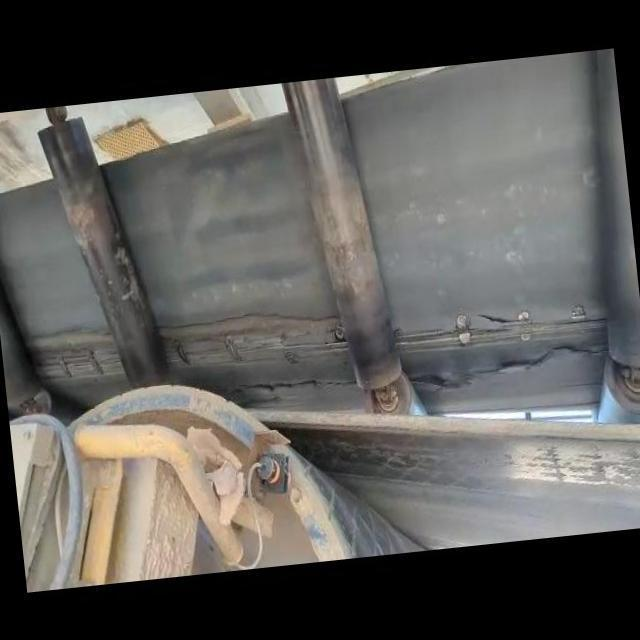Tear: (154, 304, 348, 368), (406, 342, 617, 391), (386, 311, 616, 348), (219, 371, 361, 403), (16, 315, 115, 360)
